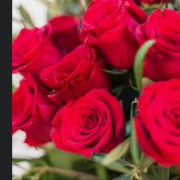RedRose: (76, 0, 149, 75), (56, 87, 126, 157), (129, 79, 180, 169), (135, 9, 180, 83), (12, 79, 57, 148), (45, 48, 108, 97), (12, 21, 56, 74), (39, 12, 79, 50)
